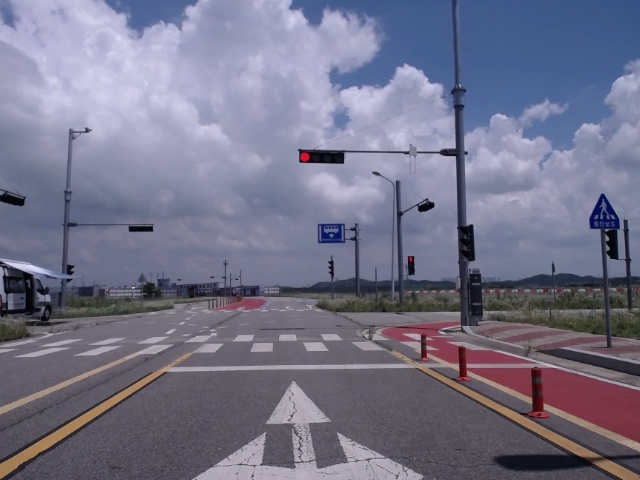red_4: (299, 152, 344, 164)
